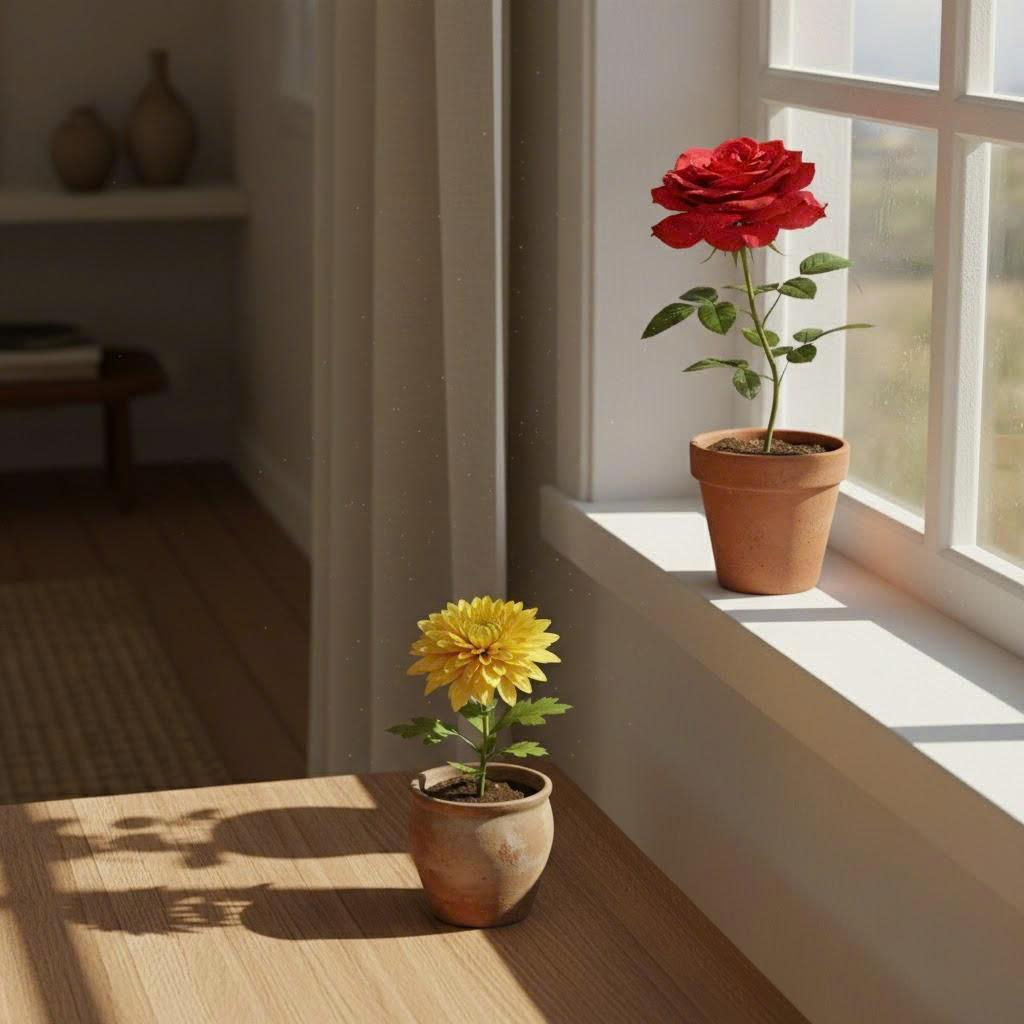rose: (646, 126, 833, 258)
